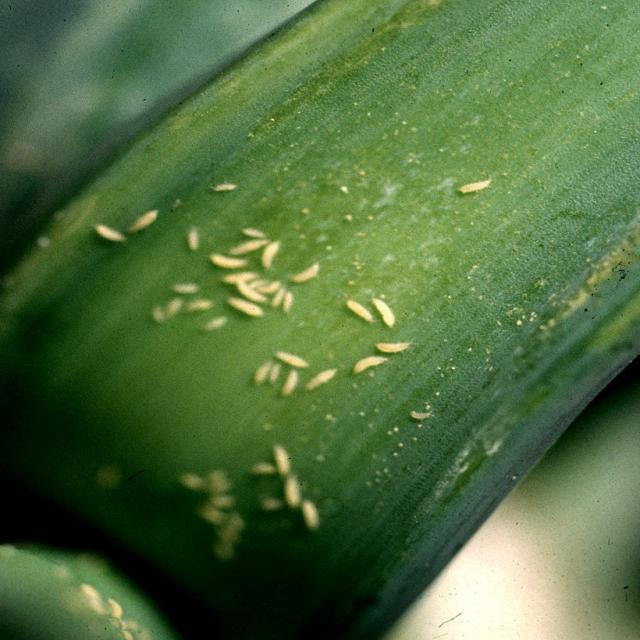Thrip-Group-: (63, 133, 529, 544)
Thrip-Larva-: (282, 259, 326, 288), (371, 290, 400, 332), (86, 223, 131, 249), (350, 352, 391, 380), (303, 365, 341, 395), (124, 208, 162, 235), (345, 299, 381, 327), (453, 172, 498, 193), (371, 338, 423, 356), (270, 348, 310, 368), (279, 366, 301, 400), (403, 407, 442, 423), (185, 221, 201, 258), (204, 180, 242, 193)
